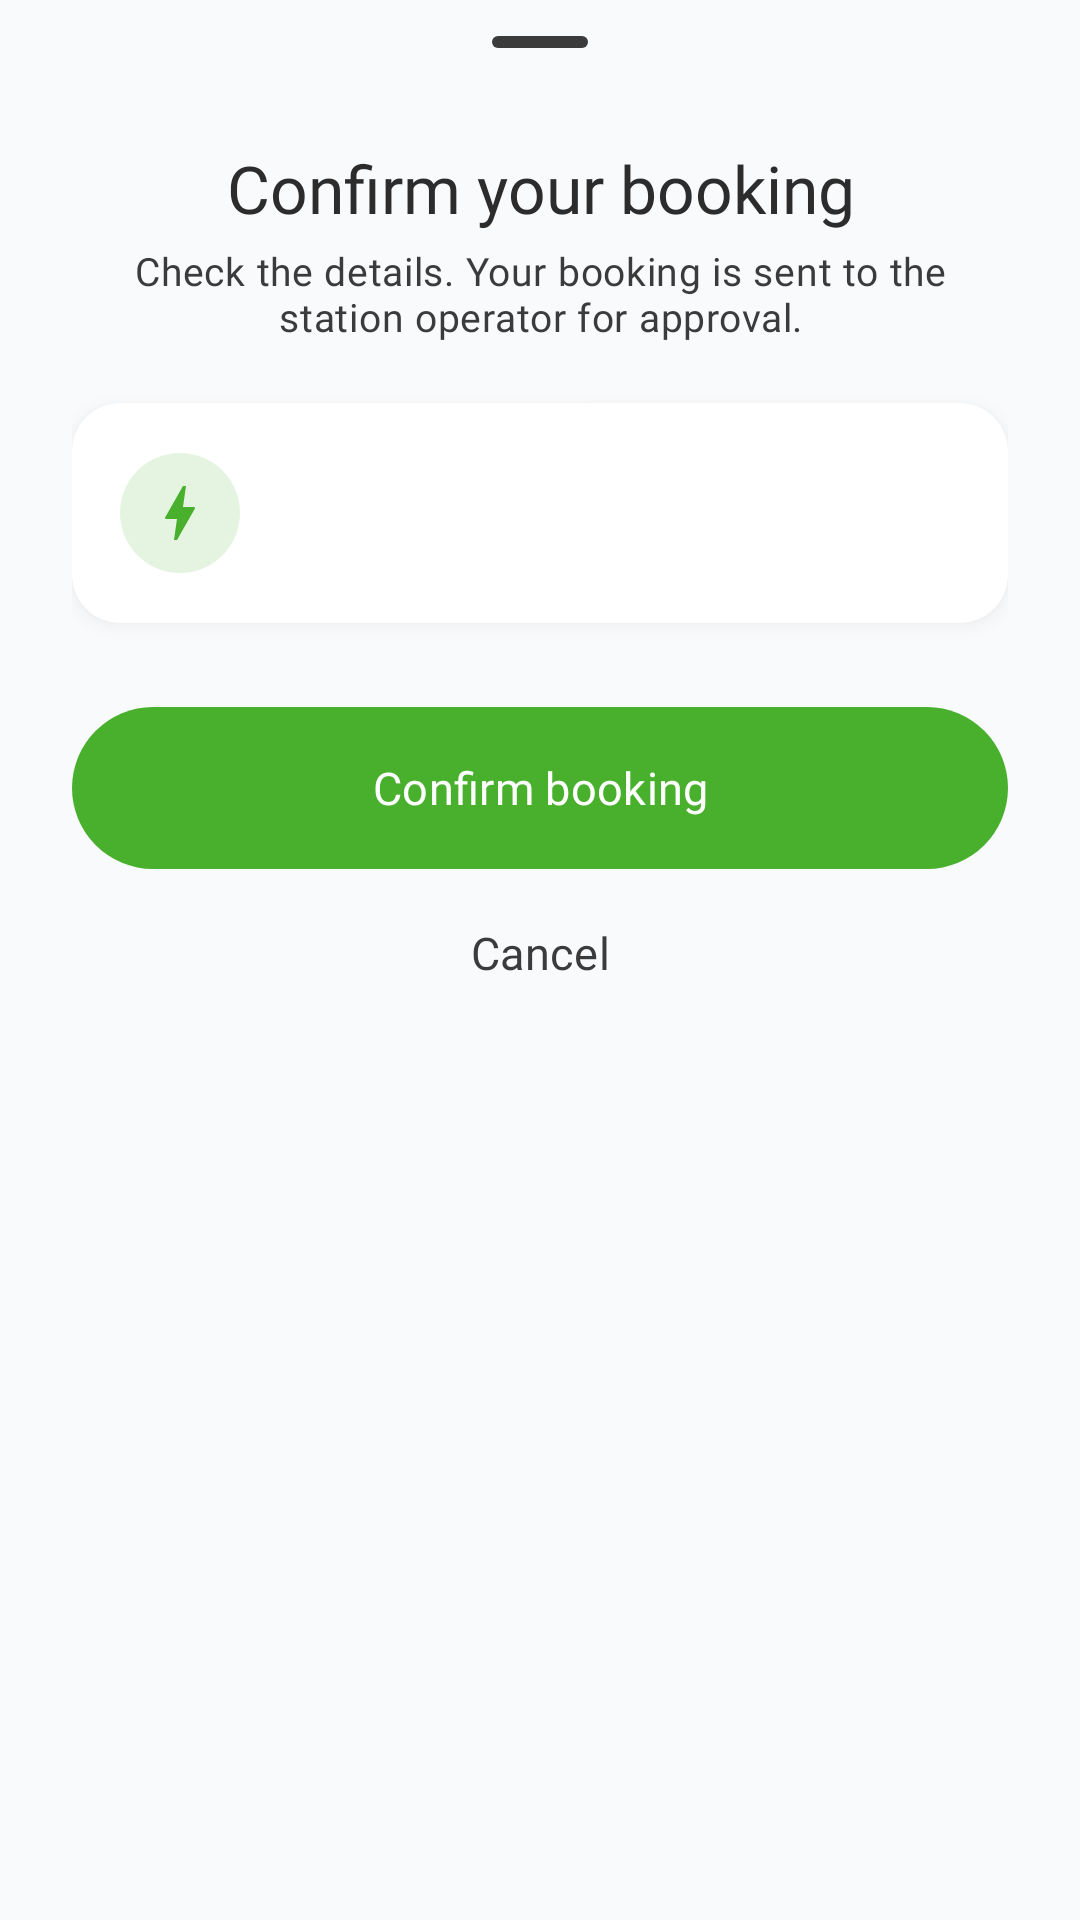

Icons on this 1080w x 1920h Android screen, each with the point to tap as point (x, y):
res bolt: point (180, 513)
